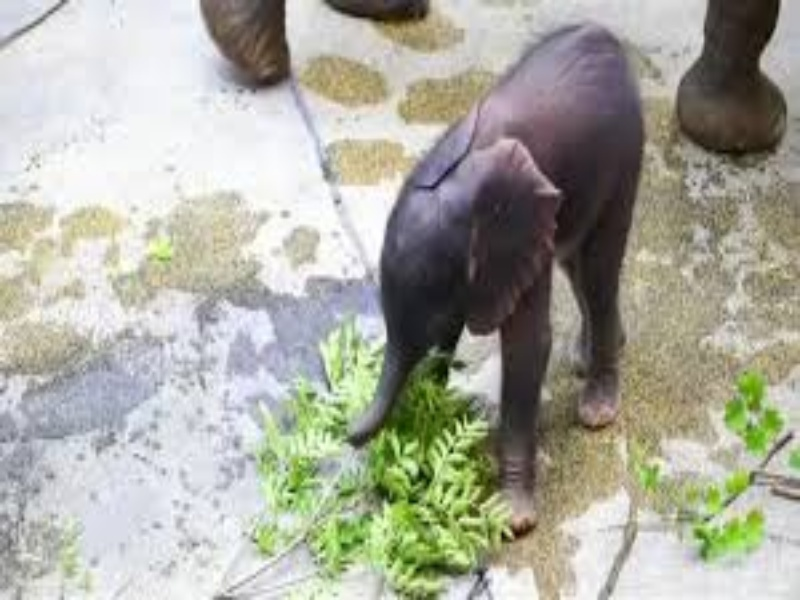elephant: (335, 20, 707, 543)
